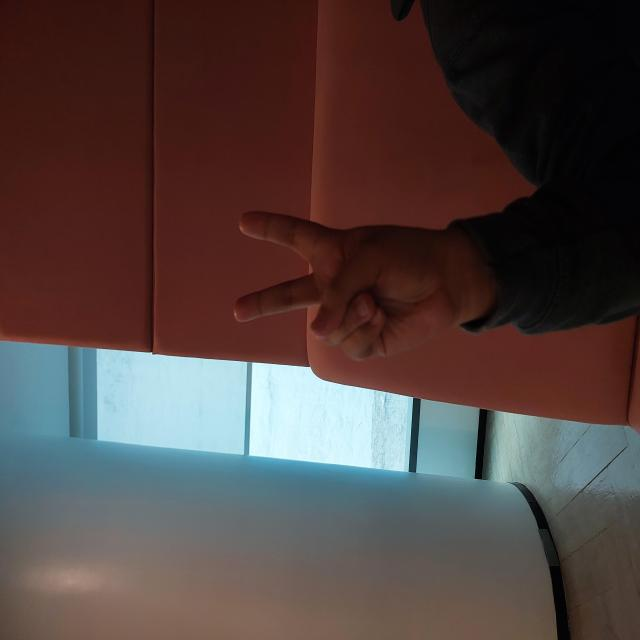V: (270, 226, 436, 461)
